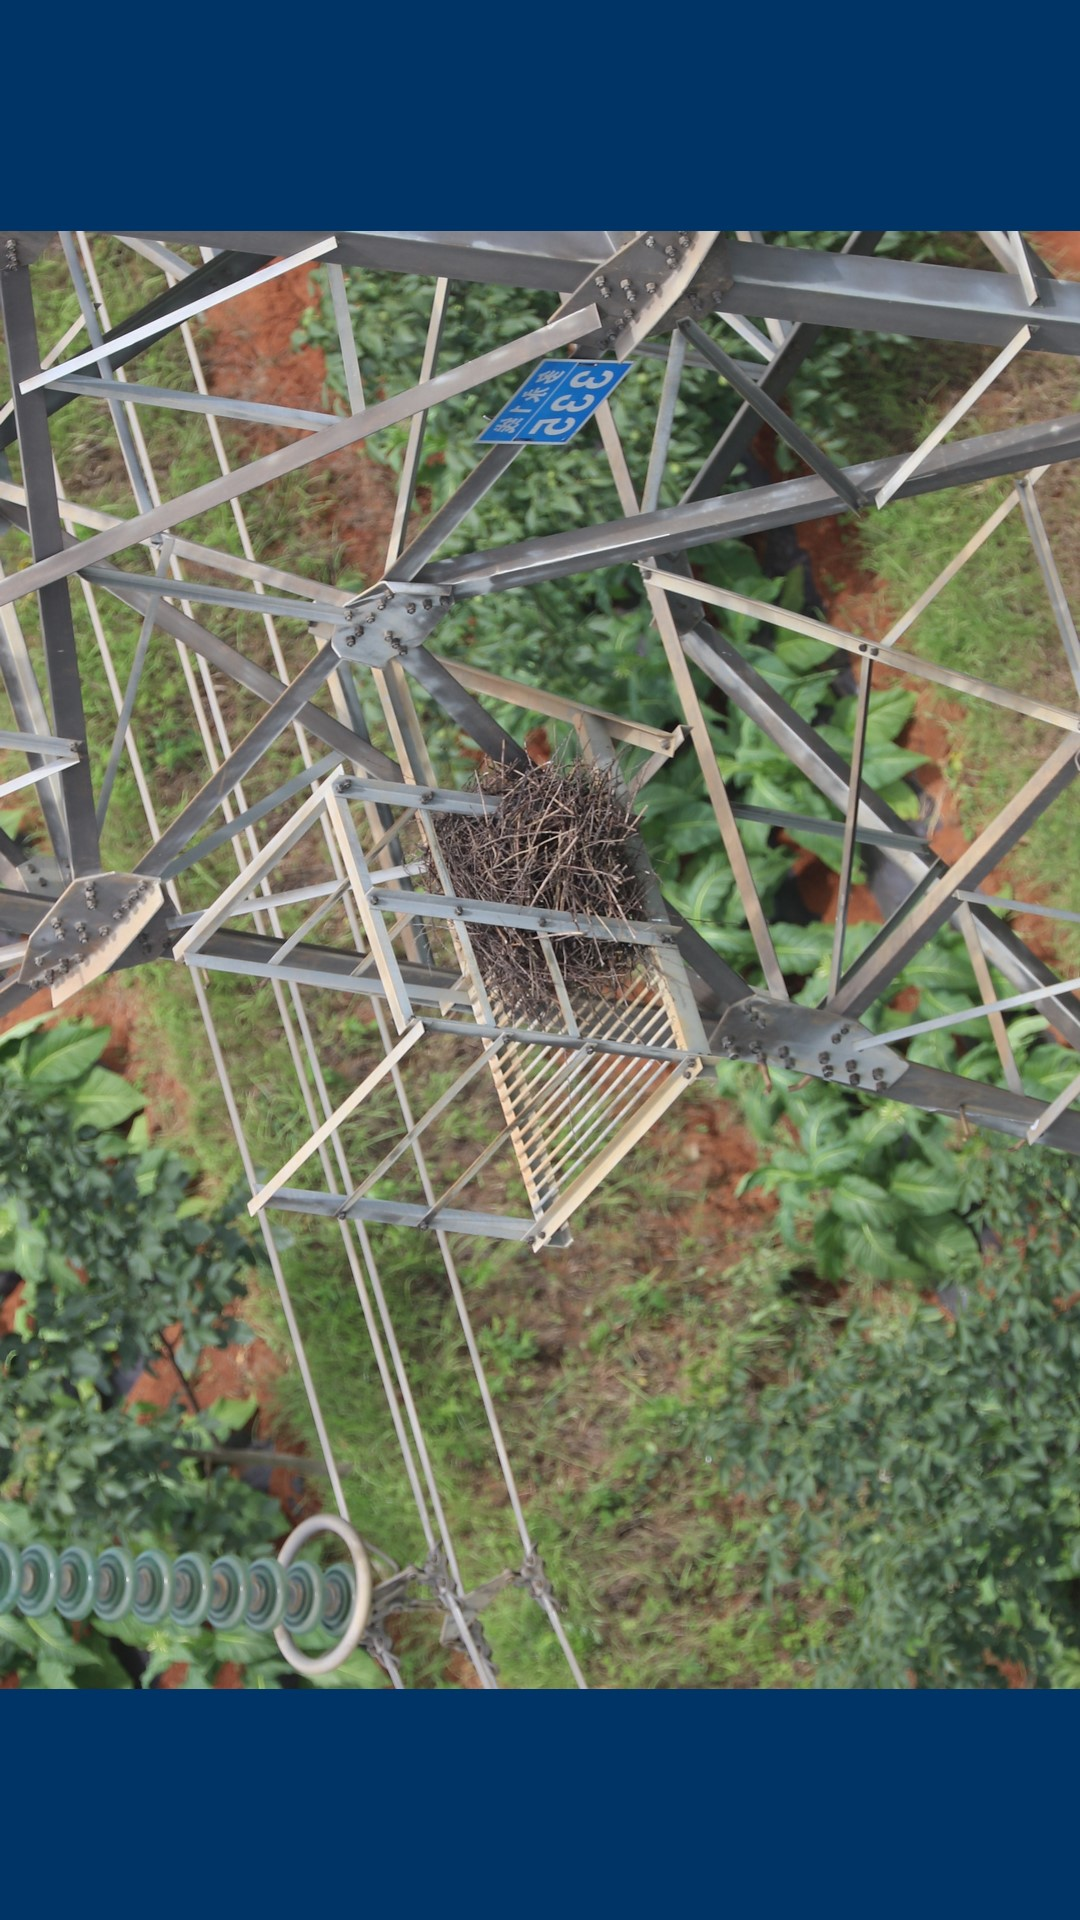niaowo: (400, 735, 670, 1026)
